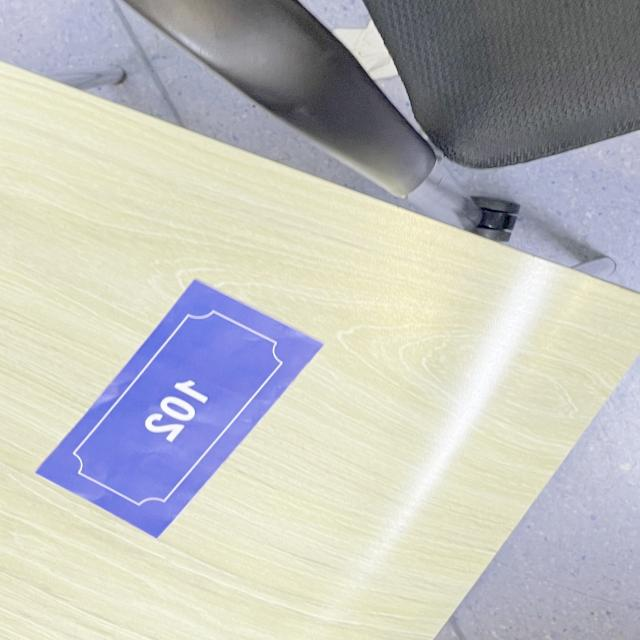Card: (13, 257, 369, 583)
